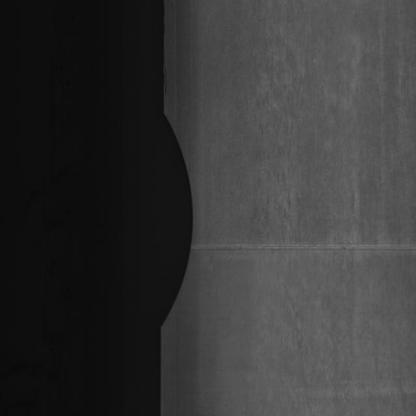crescent_gap: (140, 95, 199, 337)
welding_line: (183, 230, 412, 260)
